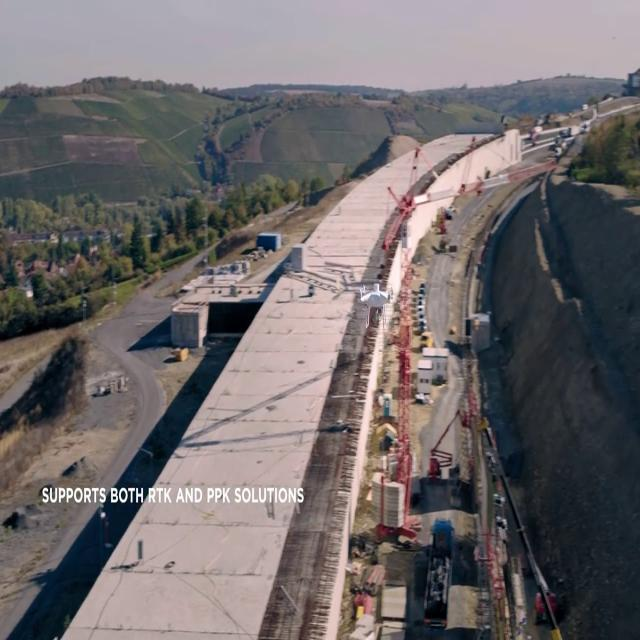drone: (357, 279, 395, 329)
